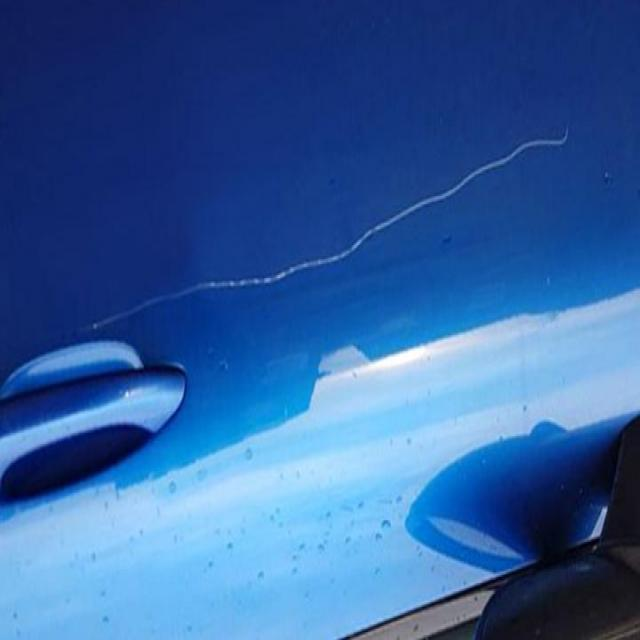scratch: (48, 96, 580, 358)
